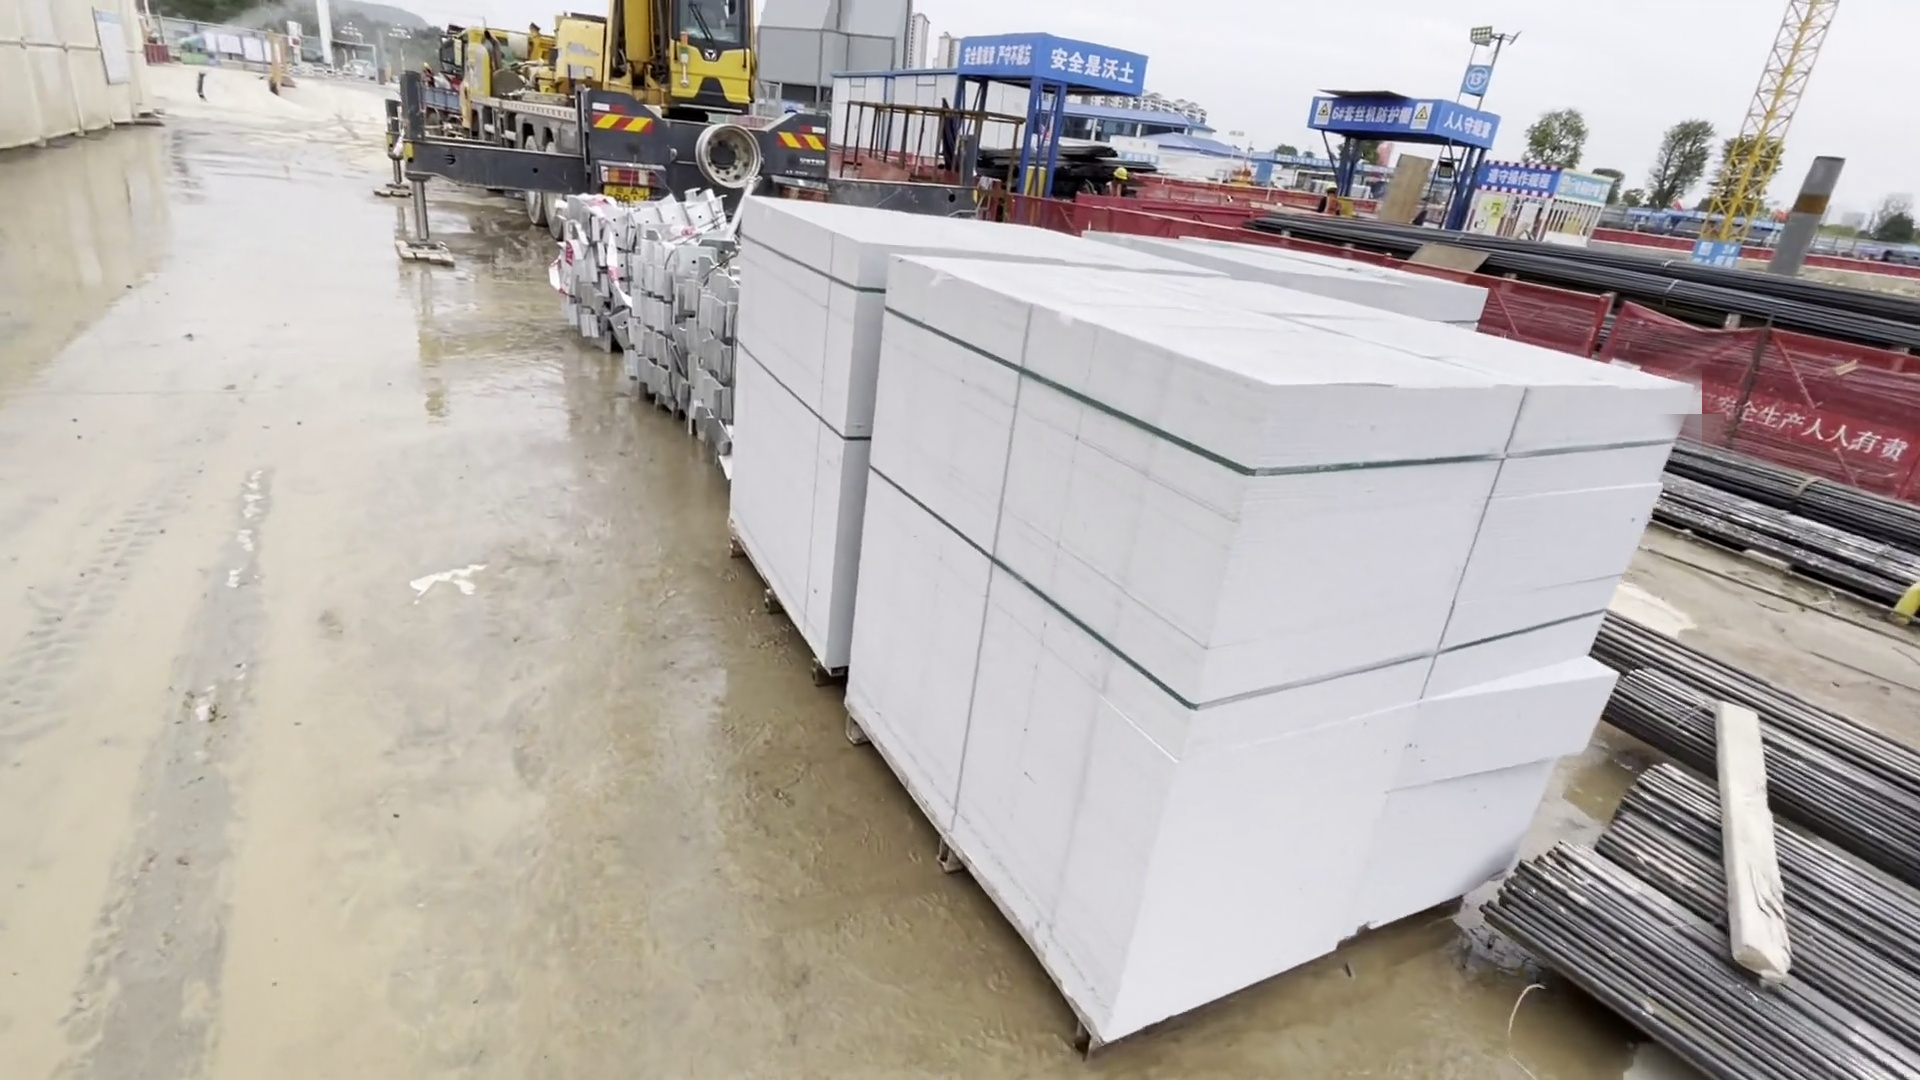brick: (719, 189, 1671, 1062)
slogan: (1298, 96, 1506, 157), (952, 29, 1147, 92)
